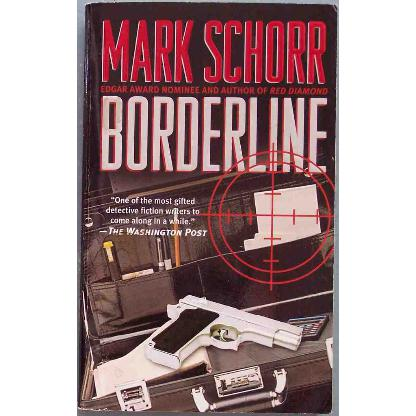gun: (142, 294, 300, 370)
